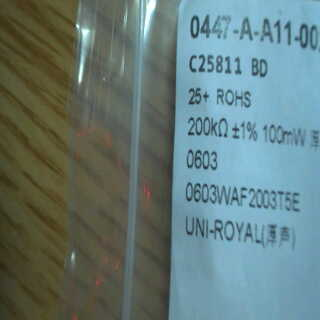200kR: (184, 112, 233, 145)
